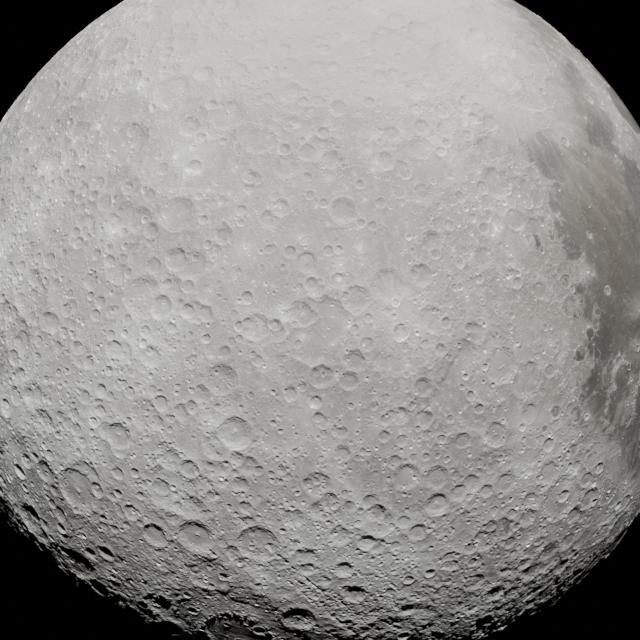crater: (157, 198, 200, 238), (62, 468, 101, 508), (150, 76, 190, 115), (129, 278, 167, 316), (236, 524, 279, 556), (175, 522, 215, 556), (214, 416, 251, 452), (98, 206, 134, 242), (300, 470, 338, 504), (205, 100, 242, 134), (279, 300, 319, 331), (373, 269, 408, 304), (482, 351, 517, 386), (308, 491, 344, 523), (608, 357, 633, 401), (339, 286, 371, 318), (357, 508, 393, 536), (417, 230, 447, 262), (378, 406, 413, 433), (142, 476, 174, 505), (102, 422, 132, 452), (421, 467, 452, 496), (391, 464, 422, 493), (224, 474, 256, 502), (116, 122, 149, 149), (236, 315, 268, 342), (478, 167, 508, 195), (14, 385, 42, 415), (329, 197, 358, 225), (307, 363, 337, 390), (163, 246, 191, 274), (180, 301, 210, 327), (140, 522, 168, 549), (481, 422, 510, 448), (291, 546, 321, 571), (367, 150, 395, 176), (208, 362, 237, 387), (536, 459, 562, 486), (483, 215, 509, 242), (170, 402, 198, 427), (423, 493, 451, 517), (504, 208, 529, 233), (341, 349, 367, 373), (463, 320, 489, 344), (341, 584, 370, 605), (103, 339, 128, 363), (409, 262, 434, 285), (302, 275, 326, 298), (178, 459, 202, 482), (38, 311, 60, 335), (212, 223, 234, 247), (489, 517, 512, 539), (448, 431, 472, 452), (298, 142, 320, 164), (472, 247, 494, 269), (95, 541, 118, 562), (150, 394, 172, 415), (407, 522, 430, 542), (501, 271, 524, 291), (414, 409, 435, 430), (338, 372, 360, 392), (240, 168, 262, 188), (268, 198, 290, 218), (355, 534, 379, 552), (332, 561, 356, 579), (562, 296, 581, 318), (519, 403, 539, 423), (413, 378, 433, 398), (296, 251, 317, 270), (392, 323, 411, 343), (183, 160, 204, 178), (332, 444, 352, 462), (329, 99, 349, 117), (580, 488, 598, 506), (280, 386, 298, 404), (439, 557, 459, 573), (41, 252, 58, 270), (12, 462, 28, 481), (237, 290, 254, 307), (266, 318, 284, 334), (541, 436, 557, 454), (307, 395, 324, 411), (394, 433, 410, 450), (7, 348, 22, 366), (432, 342, 448, 358), (376, 428, 392, 444), (358, 337, 374, 352), (216, 344, 232, 359), (282, 244, 298, 259), (277, 142, 293, 157), (110, 466, 125, 482), (373, 196, 388, 212), (477, 221, 492, 237), (531, 282, 546, 297), (88, 308, 103, 323), (234, 204, 249, 219), (556, 488, 570, 504), (435, 144, 450, 158), (574, 347, 587, 362), (262, 243, 277, 256), (544, 364, 557, 378), (473, 272, 486, 286), (402, 573, 416, 586), (454, 257, 467, 271), (422, 567, 437, 579), (559, 274, 571, 288), (550, 404, 562, 418), (592, 462, 604, 476), (465, 389, 477, 402), (304, 189, 316, 202), (404, 231, 417, 243), (435, 432, 448, 444), (200, 333, 212, 345), (559, 136, 570, 148), (602, 285, 612, 296), (460, 371, 470, 381)
